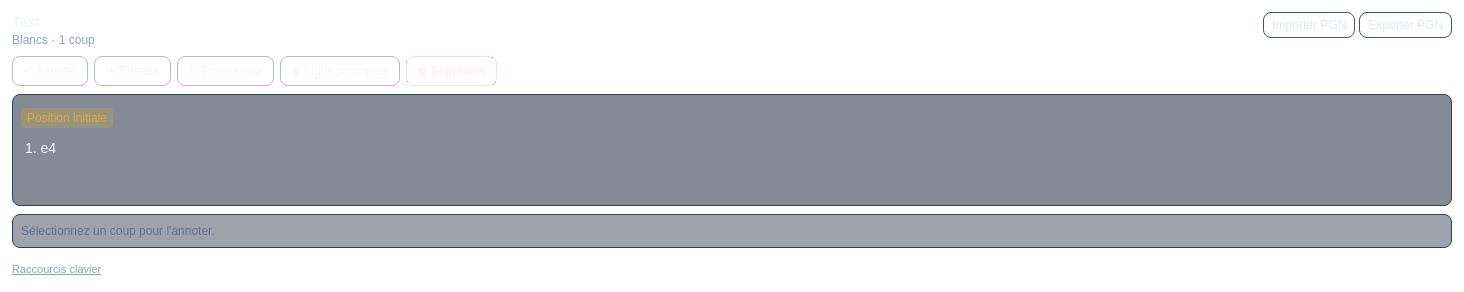
Test: import dans l'éditeur › propose l'export depuis l'éditeur
What coordinates should you click on to do the following:
click the button "Exporter PGN"
I would click on:
 (1406, 25)
Its box is [1359, 12, 1452, 38].
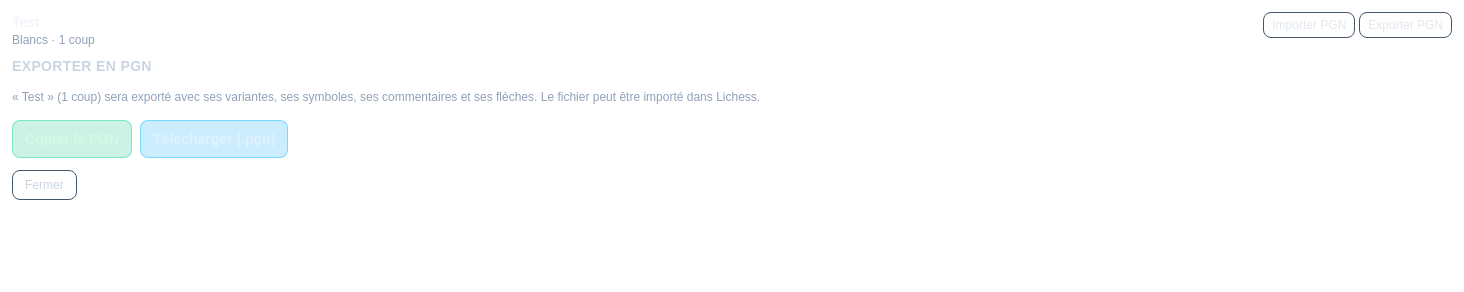
Now the button "Copier le PGN" is shown, box [12, 120, 132, 158]
What coordinates should you click on to do the following:
click the button "Fermer"
I would click on:
 (44, 184)
Its box is [12, 170, 77, 200].
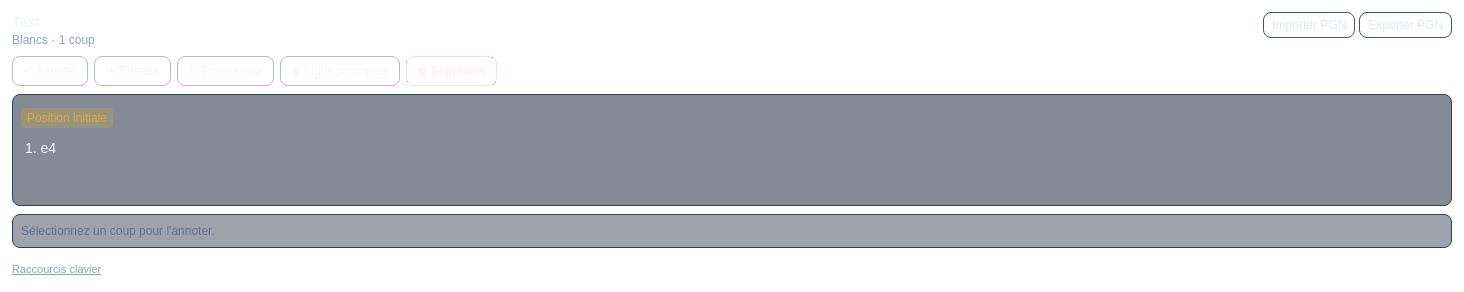
Now the element named "Actions de l'éditeur" is shown, box [12, 56, 497, 86]
